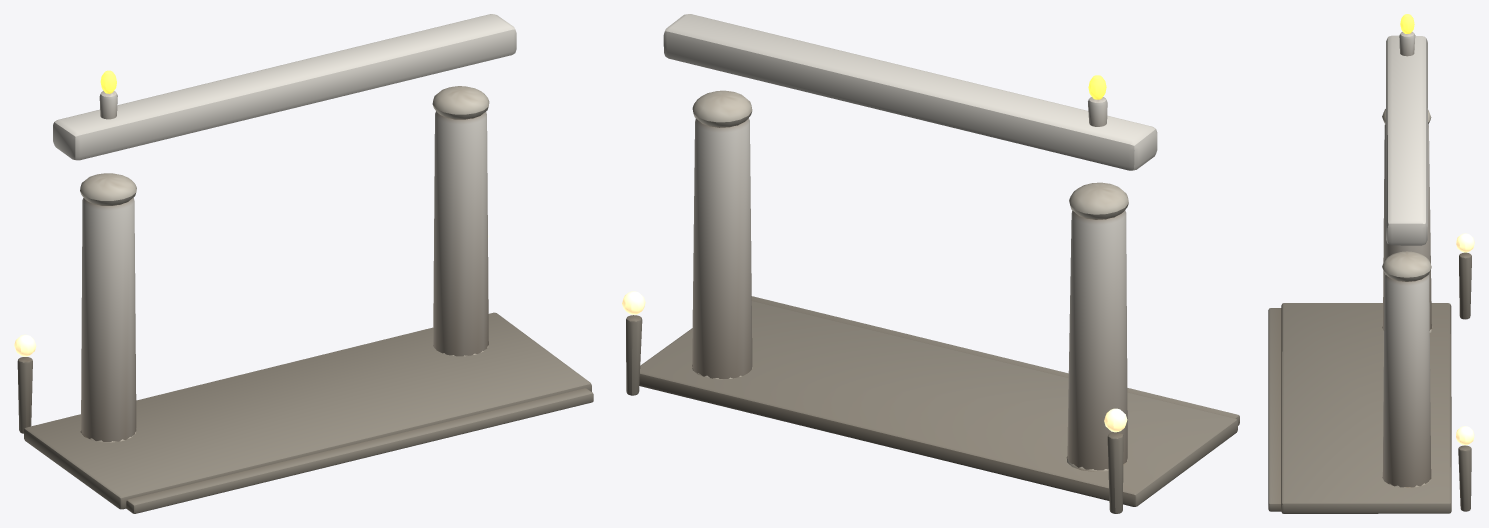
The picture shows the model from 3 angles, left to right: view 1: azimuth 30°, elevation 25°; view 2: azimuth 150°, elevation 25°; view 3: azimuth 270°, elevation 25°; orthographic projection. The views are drawn at different scales.
Parts seen in each view (by area): view 1: gate_bbc5a5d6; view 2: gate_bbc5a5d6; view 3: gate_bbc5a5d6.
Part boxes in pixels (x1,y1,x2,y2): gate_bbc5a5d6: (14,14,593,513); gate_bbc5a5d6: (622,14,1239,513); gate_bbc5a5d6: (1268,14,1474,513).
Bounding box in the file's own units: 5.89 × 4.43 × 2.54.
